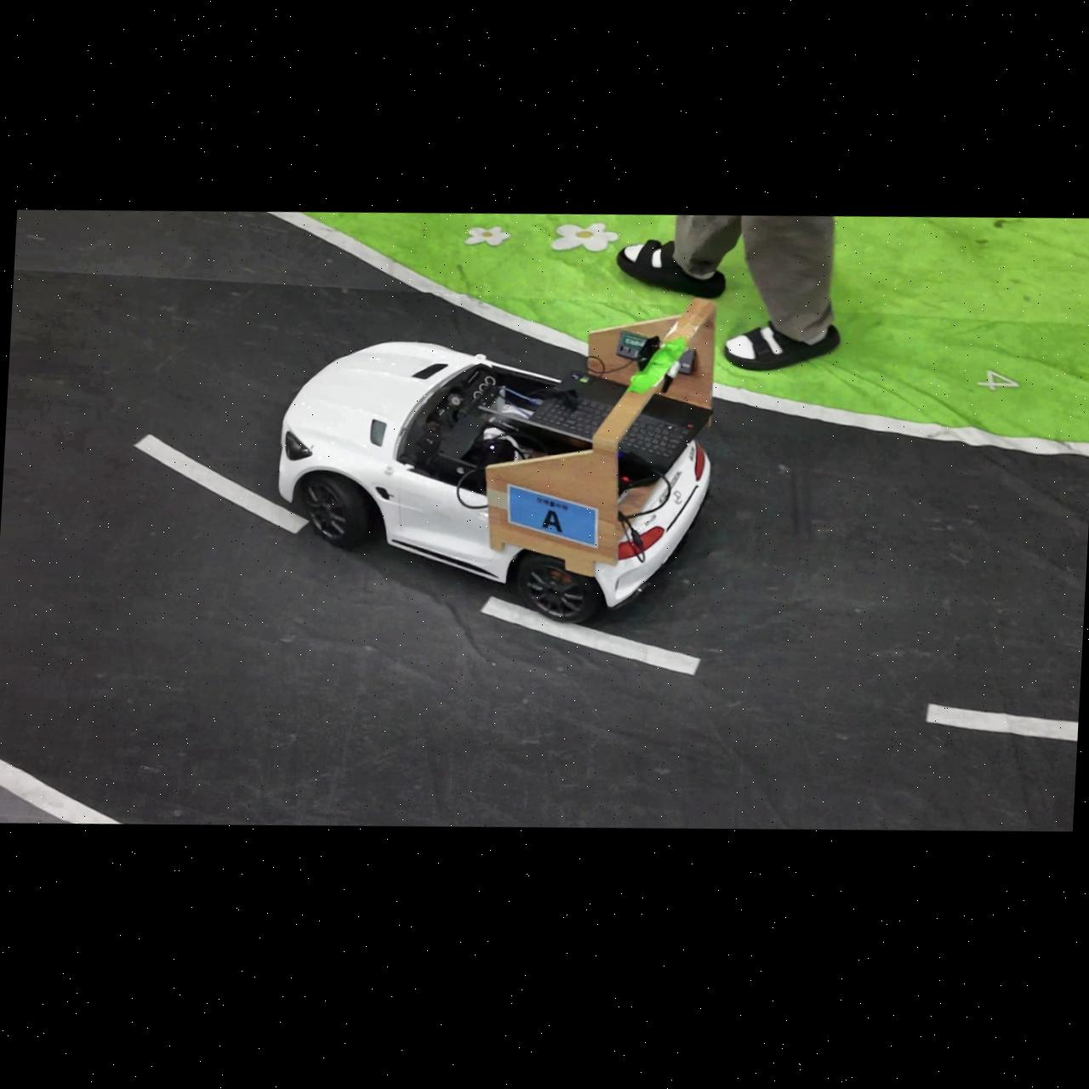broken_line: (133, 433, 309, 533), (479, 596, 701, 675), (925, 703, 1077, 741)
